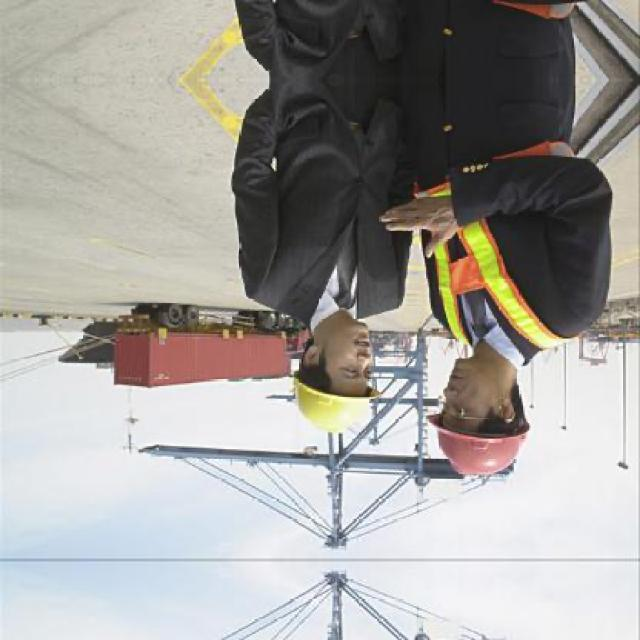con casco: (427, 288, 539, 489), (272, 325, 374, 443)
